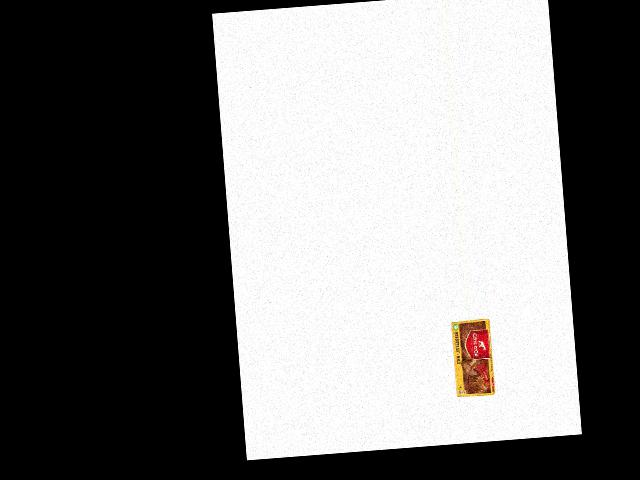chocolate: (444, 318, 497, 399)
